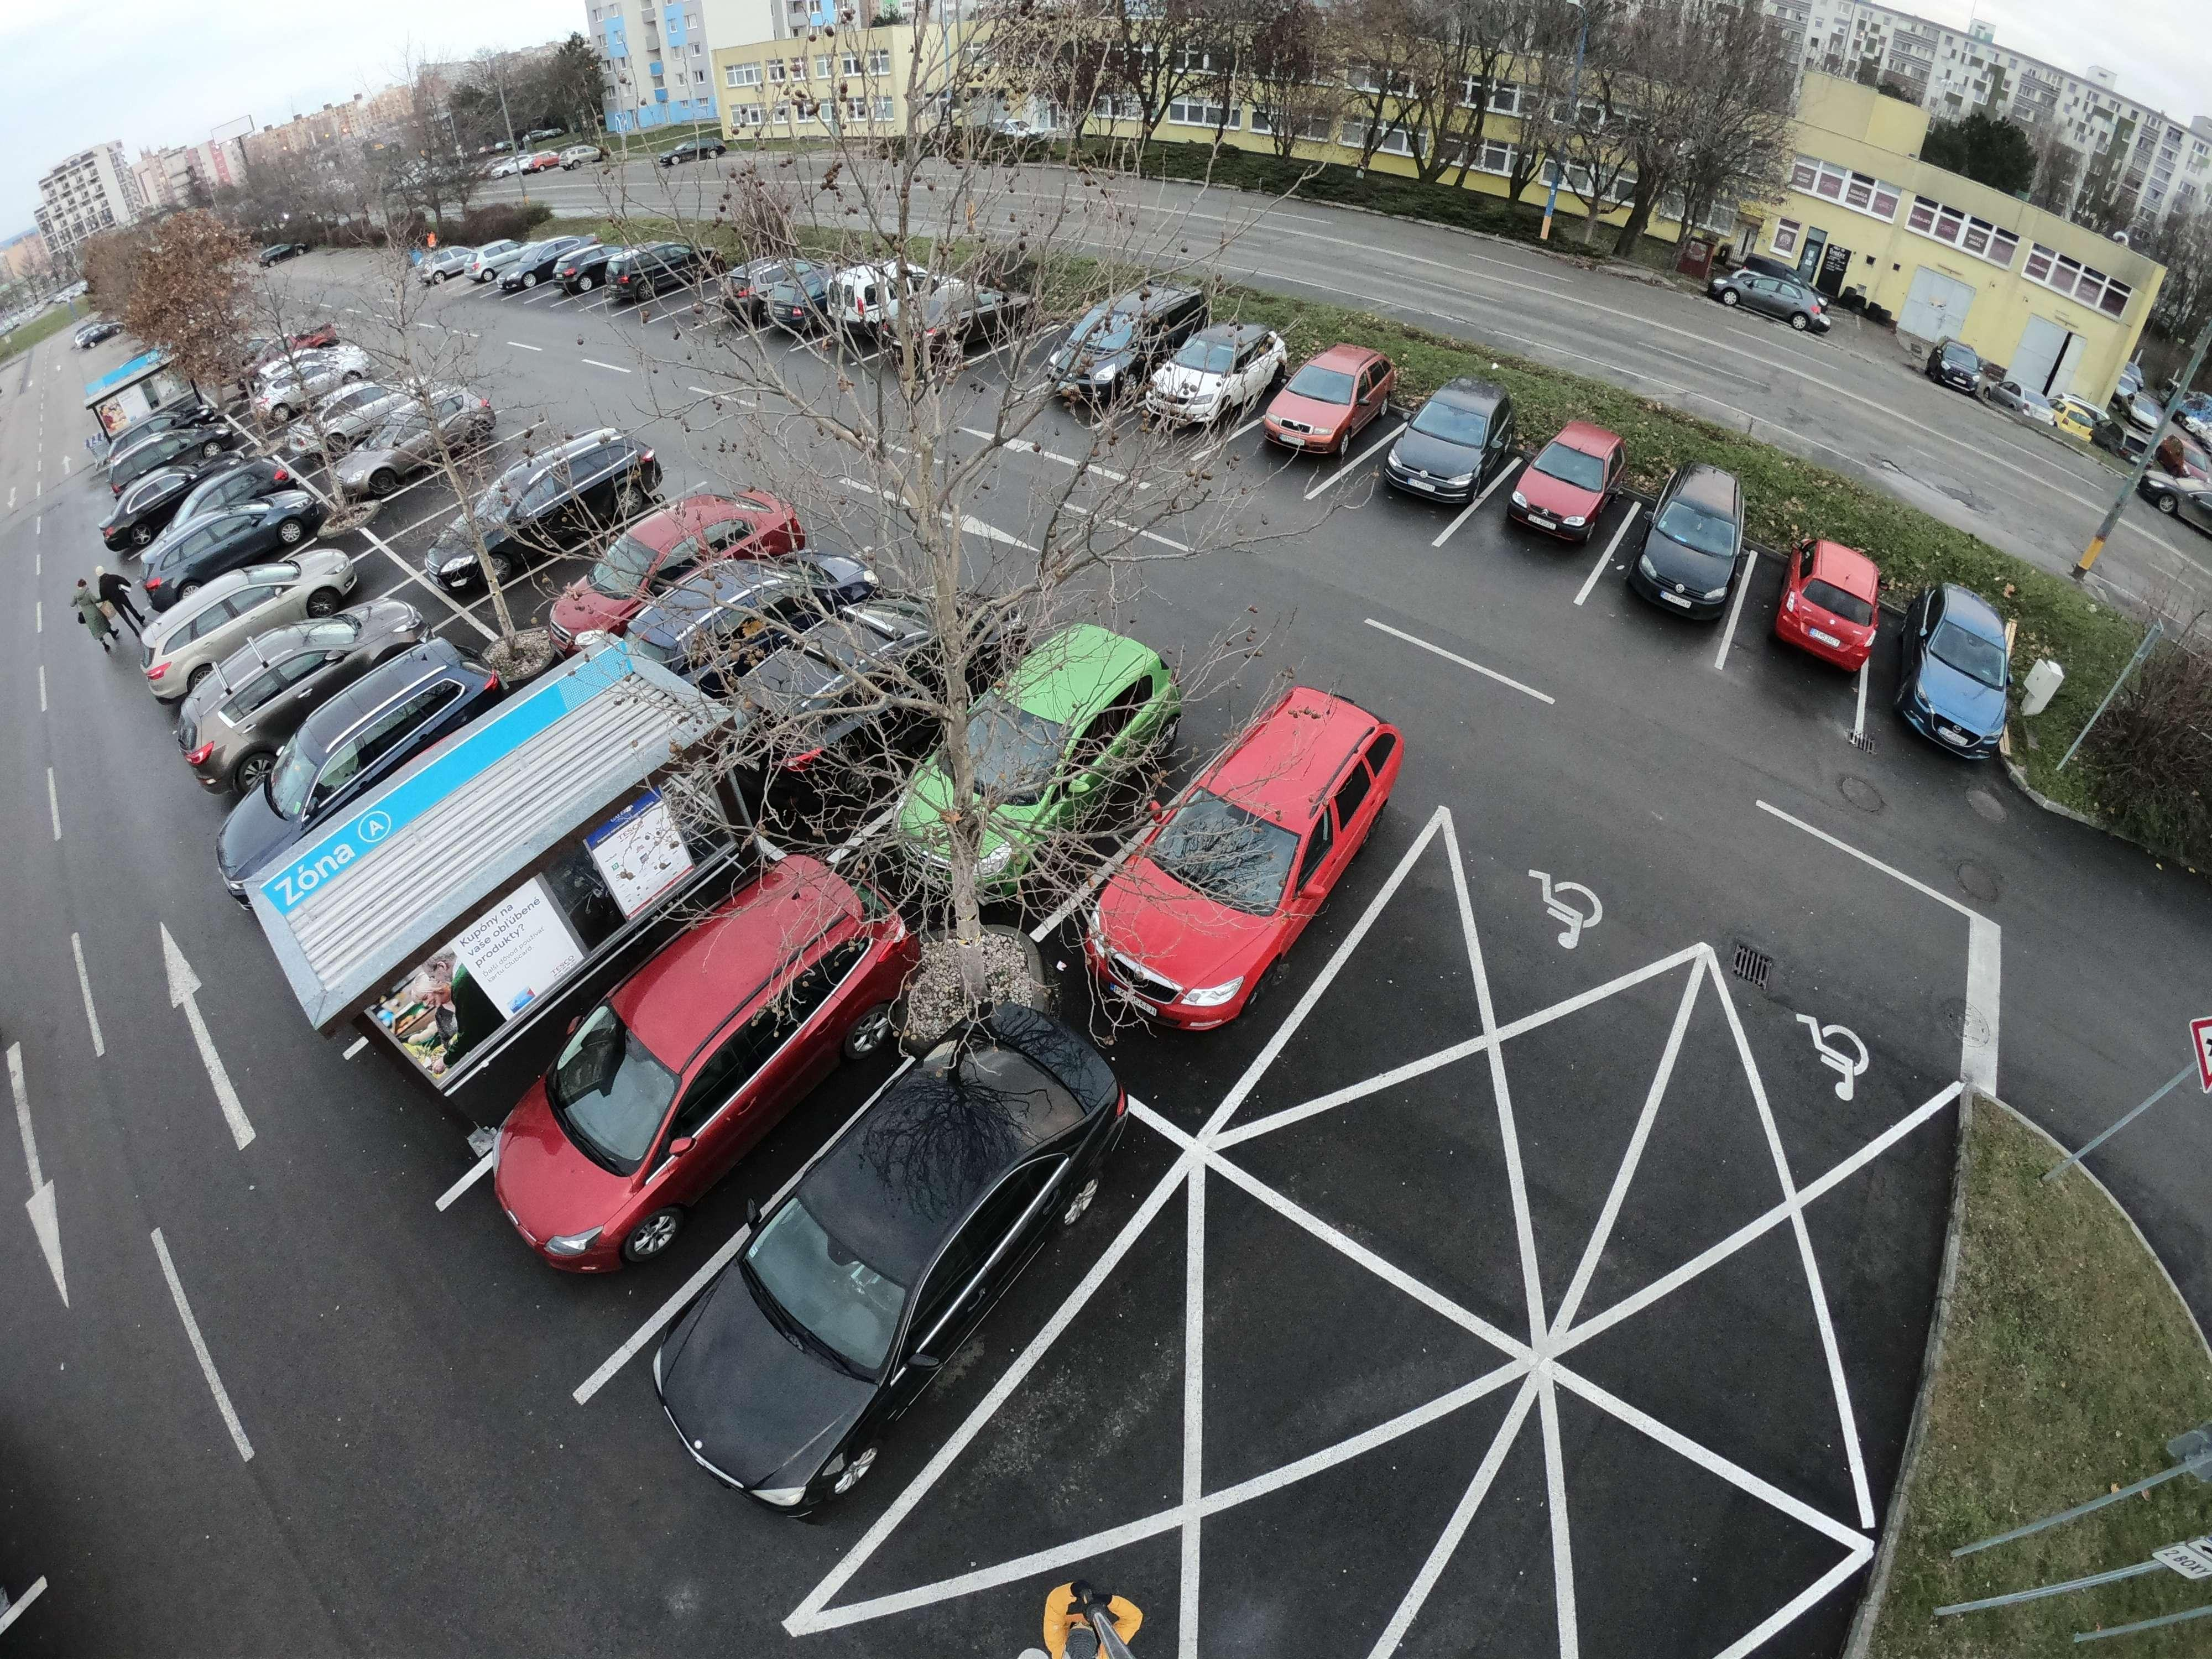empty: (667, 1002, 1177, 1495), (505, 814, 895, 1290), (1090, 685, 1407, 1035), (981, 631, 1183, 857), (705, 629, 916, 838), (185, 608, 415, 753), (1886, 570, 2024, 763), (582, 493, 775, 629), (132, 472, 327, 606), (1618, 458, 1764, 624), (653, 544, 857, 660), (146, 544, 336, 666), (1763, 523, 1897, 688), (496, 432, 653, 570), (1501, 411, 1630, 554), (340, 385, 493, 502), (1385, 380, 1521, 511), (1054, 289, 1195, 413), (1264, 340, 1399, 464), (1157, 314, 1285, 429), (110, 430, 239, 526), (611, 244, 716, 310)
occupied: (406, 434, 543, 537)
